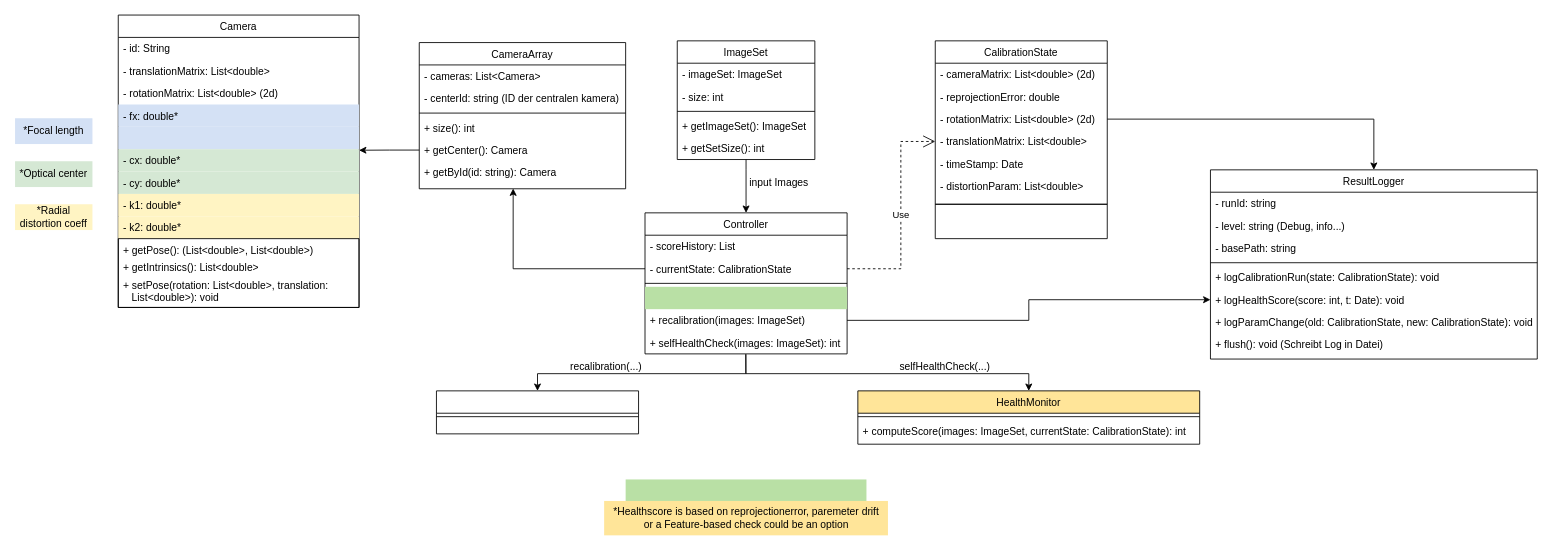
Image size: 1552x550. Some labels were removed from this diagram. Each missing label, with the centre of its shape:
"*Initalcalibration would be via OpenCV or LiFCal" goes at point 745,492.
"+ getState(): CalibrationState" goes at point 1020,221.
"+ runInitialCalibration(images: ImageSet)*" goes at point 746,297.
"- fy: double*" goes at point 238,137.
"Recalibration (LiFCal)" goes at point 537,412.
